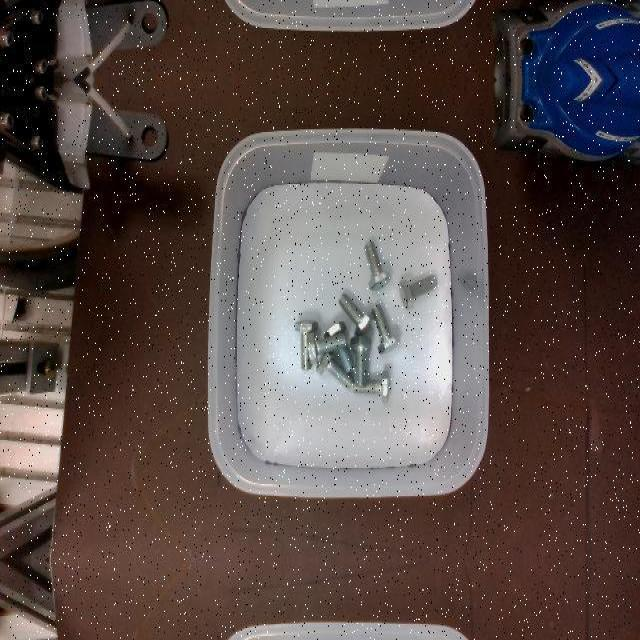screw: (364, 303, 400, 353), (333, 292, 373, 334), (364, 241, 391, 291), (307, 331, 346, 365), (399, 275, 437, 309), (350, 334, 371, 386)
